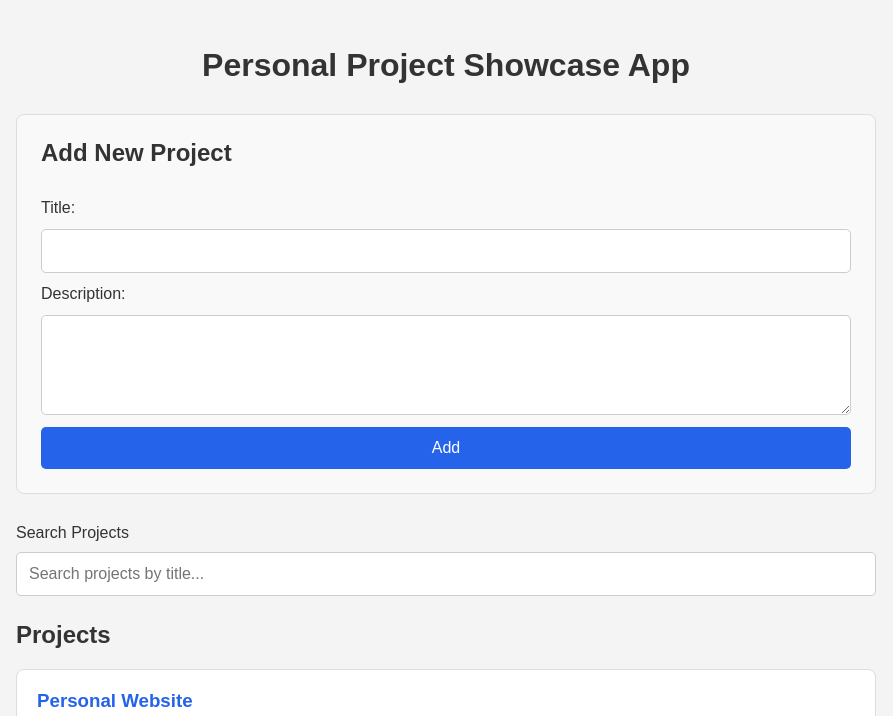
Test: adds a new project through the form
Type "React Portfolio" into the field labelled "Title:". click: (446, 251)
box: [41,229,851,273]
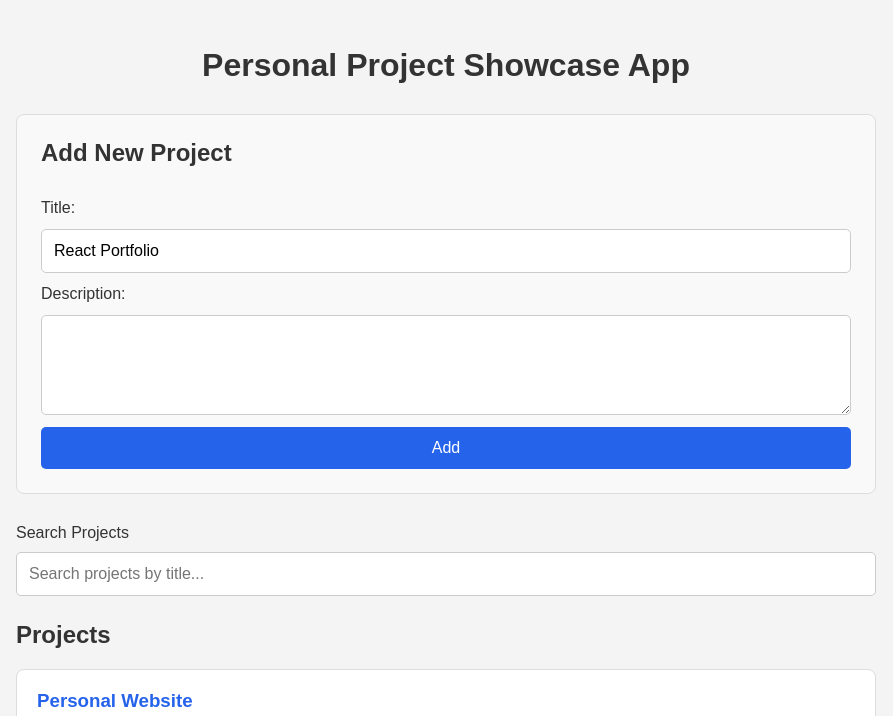
Type "My personal portfolio website" into the text box labelled "Description:". click: (446, 365)
box: [41,315,851,415]
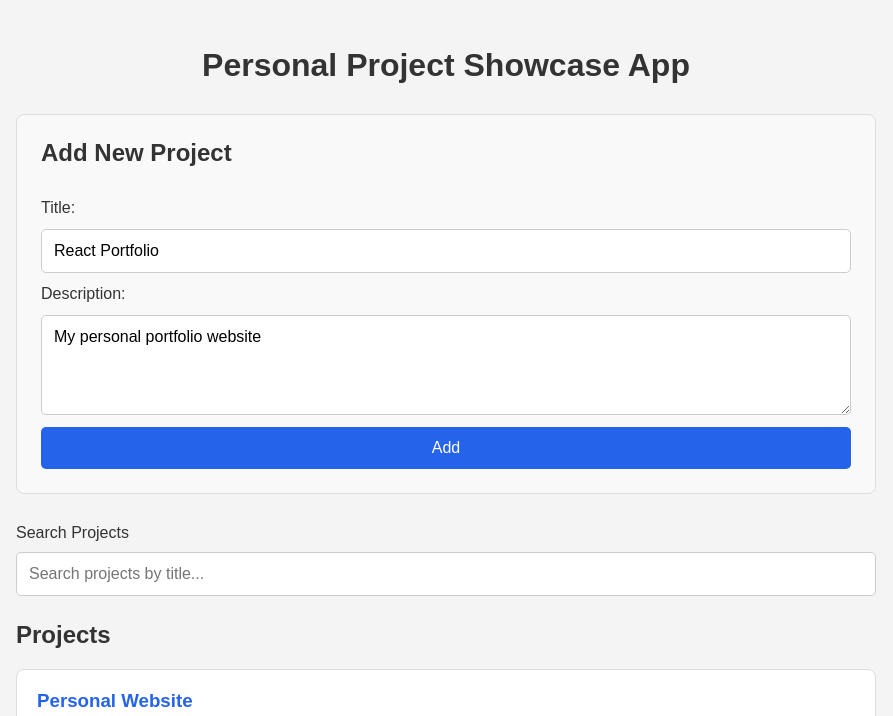
Click the button "Add". click: (446, 448)
box: [41,427,851,469]
(page scrolled)
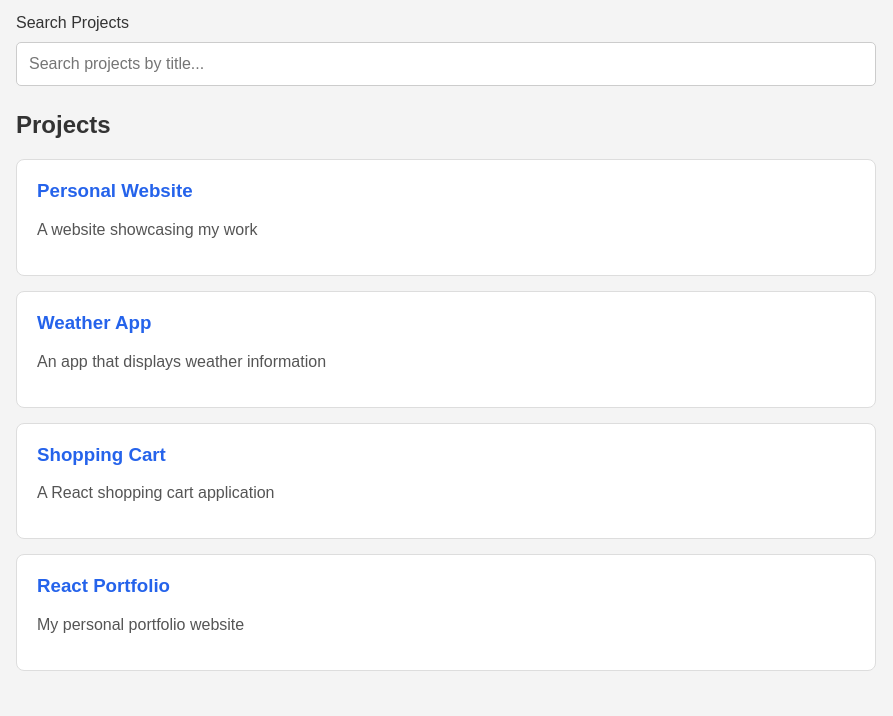
Result: the heading "React Portfolio" is shown at [37,575,170,596]
Result: the text "My personal portfolio website" is shown at [37,616,244,633]
